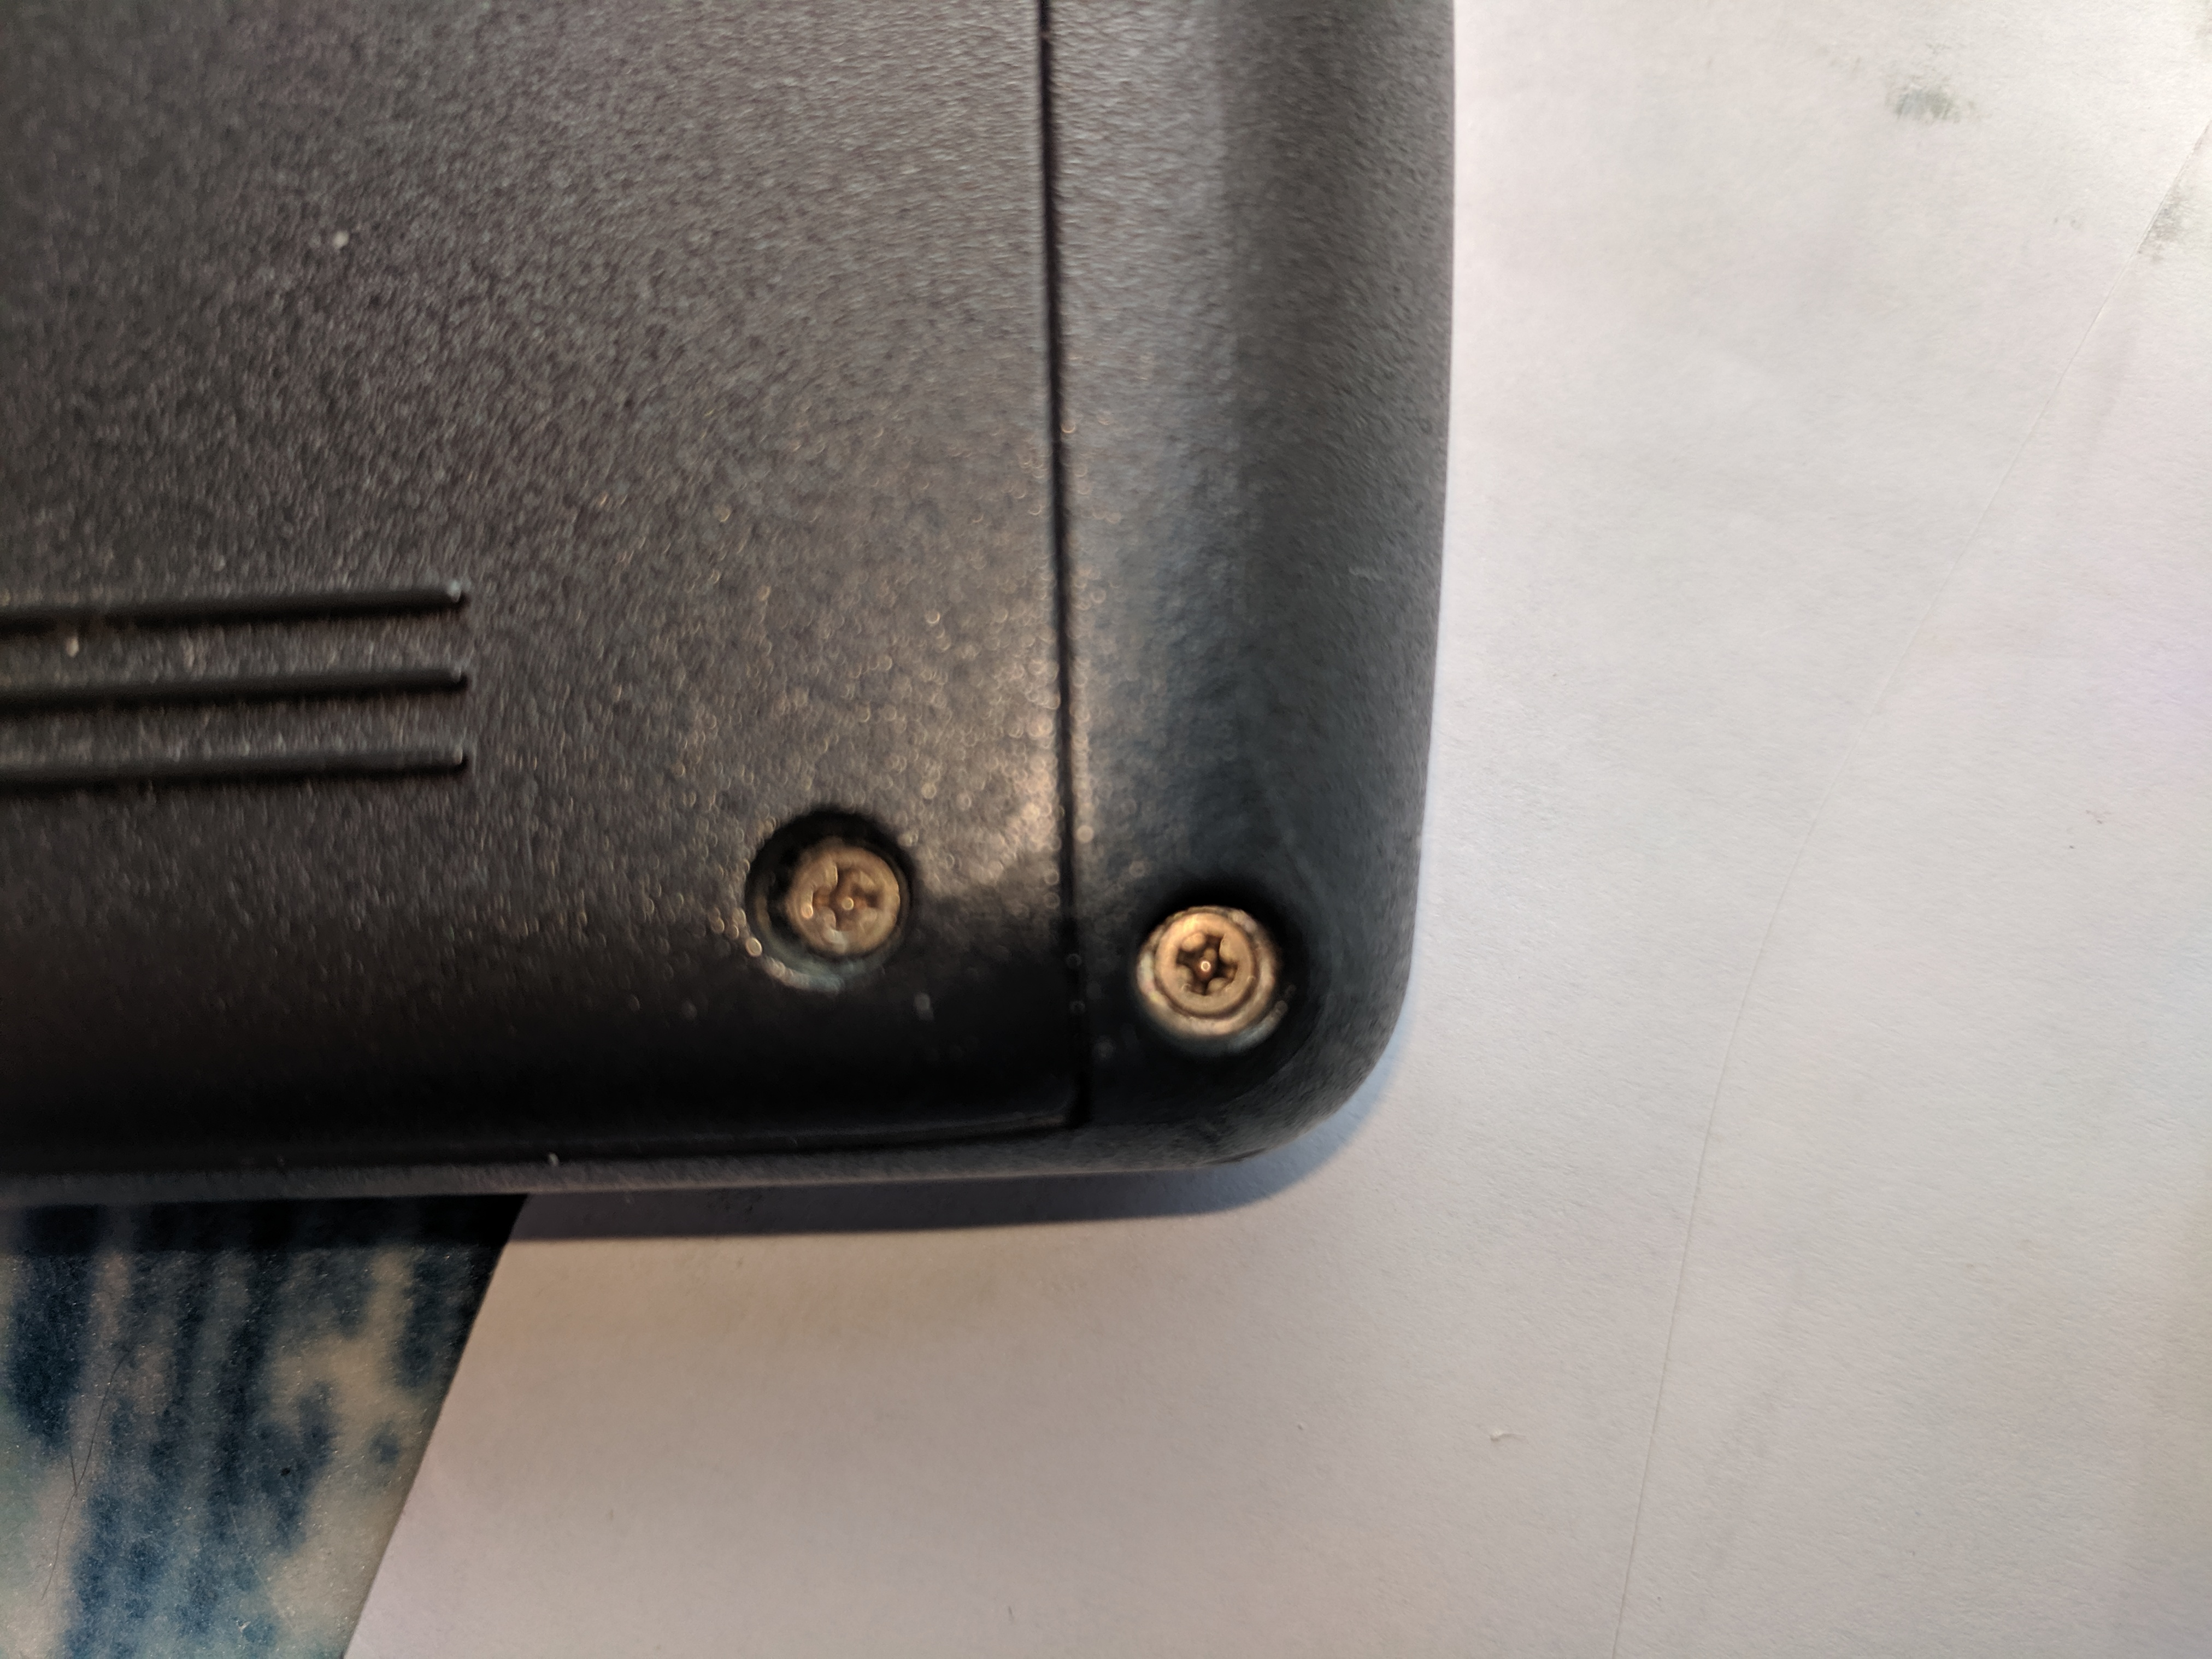cross_recessed_screw: (749, 816, 904, 960), (1129, 885, 1271, 1021)
